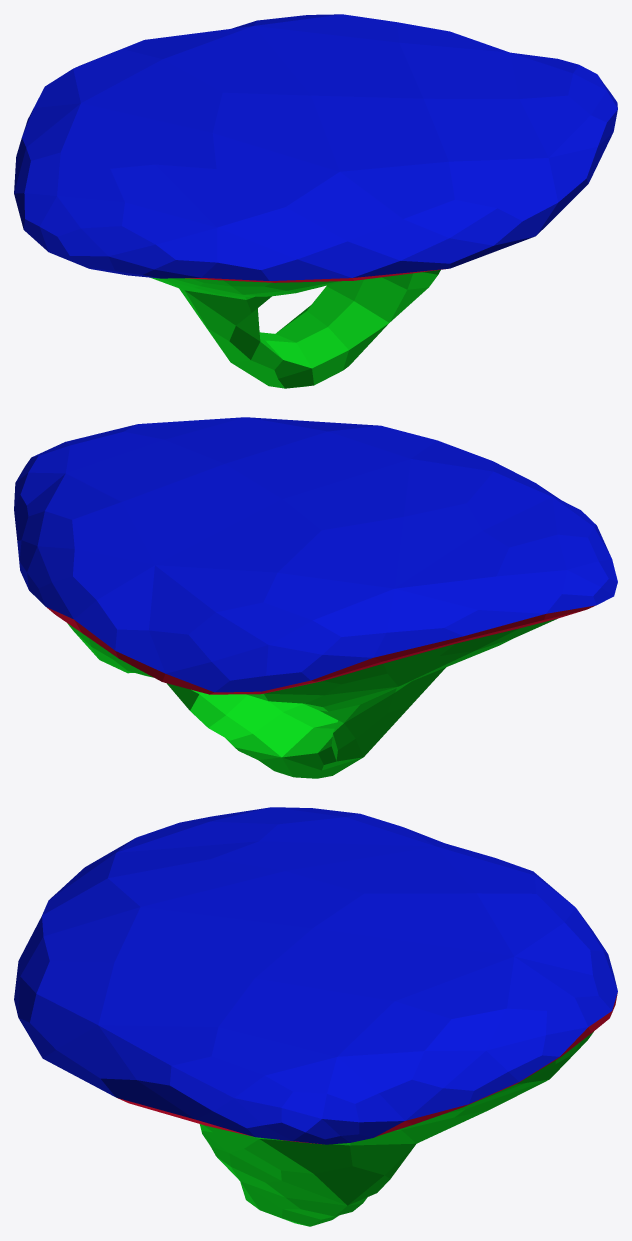
The model's file is Rock_Island_2.fbx.
3 views of the same model, one above another, from view 1: azimuth 30°, elevation 25°; view 2: azimuth 150°, elevation 25°; view 3: azimuth 270°, elevation 25° (orthographic). The views are drawn at different scales.
Visible parts, largest first — view 1: Rock_Island_2; view 2: Rock_Island_2; view 3: Rock_Island_2.
Part boxes in pixels (x1,y1,x2,y2): Rock_Island_2: (14, 14, 617, 388); Rock_Island_2: (14, 417, 617, 778); Rock_Island_2: (14, 807, 617, 1226).
Bounding box in the file's own units: 6970 × 3229 × 5828.
